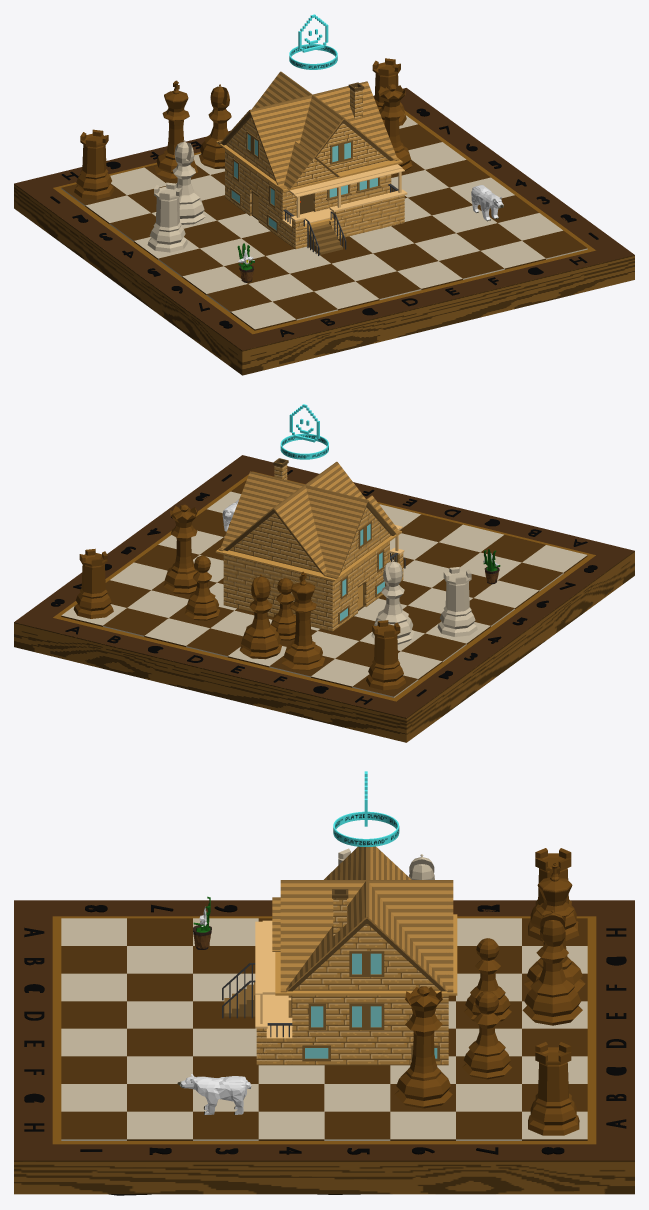
3 renders of one model, top to bottom at view 1: azimuth 30°, elevation 25°; view 2: azimuth 150°, elevation 25°; view 3: azimuth 270°, elevation 25°, orthographic. The views are drawn at different scales.
Parts seen in each view (by area): view 1: Cube.002, Cube.508, TYPE_PREMIUM, ANIMAL_OSO_POLAR; view 2: Cube.002, Cube.508, TYPE_PREMIUM; view 3: Cube.002, Cube.508, ANIMAL_OSO_POLAR, TYPE_PREMIUM, OBJRANDOM_MONJA BLANCA.
Boxes of the visible parts, <box> form: Cube.002: <box>14,58,634,375</box>; Cube.508: <box>216,71,407,255</box>; TYPE_PREMIUM: <box>289,14,337,69</box>; ANIMAL_OSO_POLAR: <box>471,185,503,221</box>; Cube.002: <box>14,455,634,742</box>; Cube.508: <box>215,458,405,631</box>; TYPE_PREMIUM: <box>280,404,328,459</box>; Cube.002: <box>14,848,634,1194</box>; Cube.508: <box>222,846,457,1065</box>; ANIMAL_OSO_POLAR: <box>177,1074,251,1114</box>; TYPE_PREMIUM: <box>333,771,399,846</box>; OBJRANDOM_MONJA BLANCA: <box>193,896,211,949</box>.
Size of the model in its own units: 3981 by 2151 by 4012.
29 materials, 4 textured.
